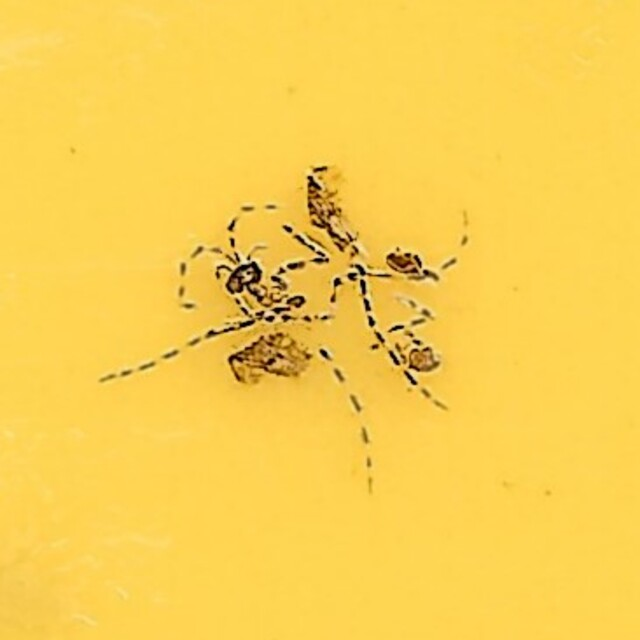Nematocera: (175, 165, 465, 475)
